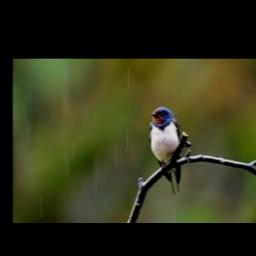Swallow: (148, 107, 181, 195)
